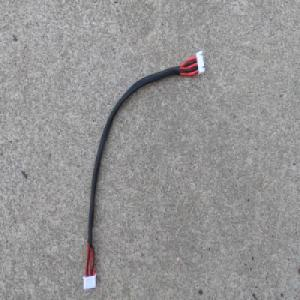Wire: (82, 47, 206, 291)
